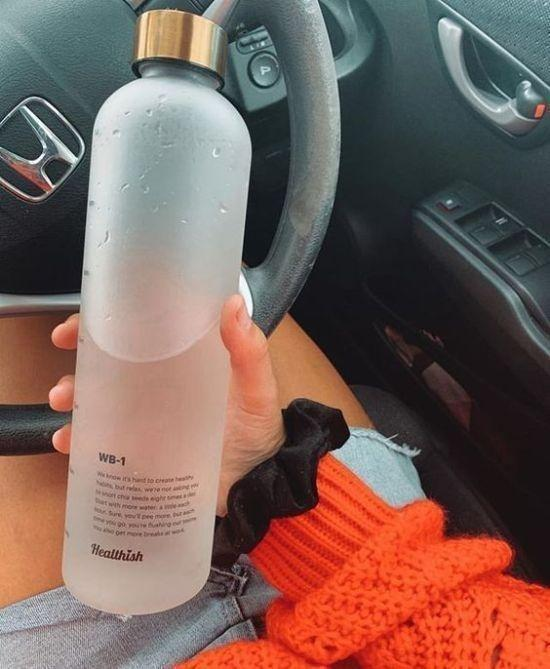gym bottle: (58, 5, 256, 617)
